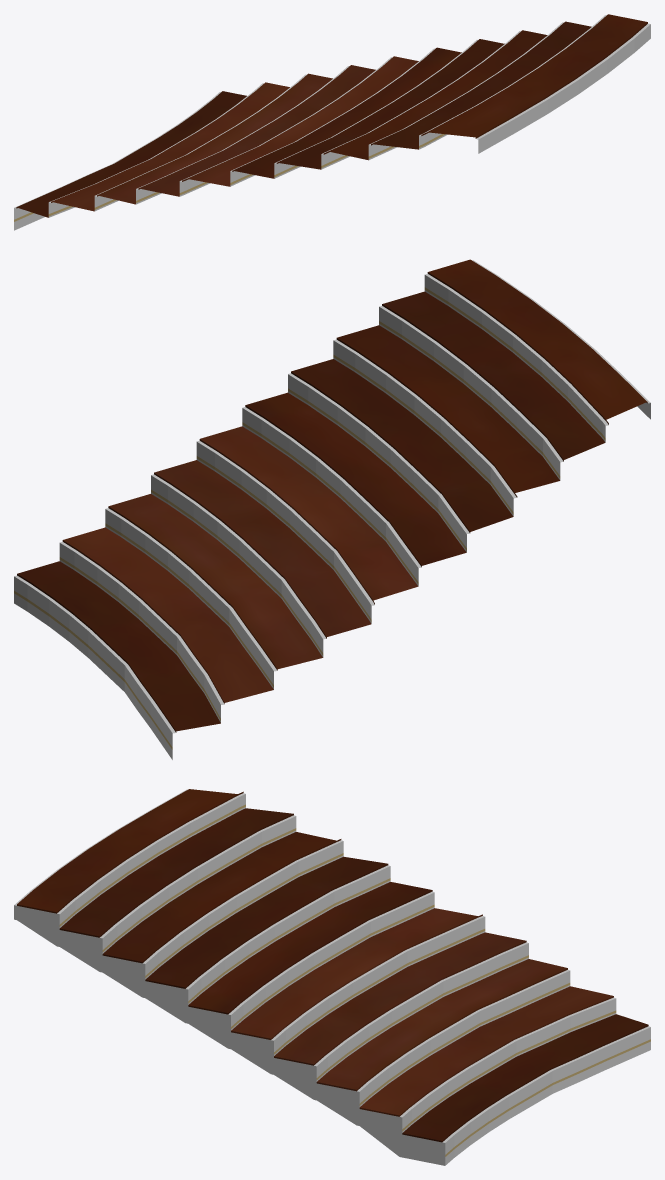
The model's file is Escada_Lateral_Auditorio_Principal.fbx.
The picture shows the model from 3 angles, top to bottom: view 1: azimuth 90°, elevation 25°; view 2: azimuth 150°, elevation 25°; view 3: azimuth 270°, elevation 25°; orthographic projection. The views are drawn at different scales.
Parts seen in each view (by area): view 1: Escada_Lateral_Auditorio_Principal; view 2: Escada_Lateral_Auditorio_Principal; view 3: Escada_Lateral_Auditorio_Principal.
Part boxes in pixels (<box>): Escada_Lateral_Auditorio_Principal: <box>14,14,650,230</box>; Escada_Lateral_Auditorio_Principal: <box>14,259,650,759</box>; Escada_Lateral_Auditorio_Principal: <box>14,789,650,1165</box>.
Bounding box in the file's own units: 1507 × 620 × 2021.
